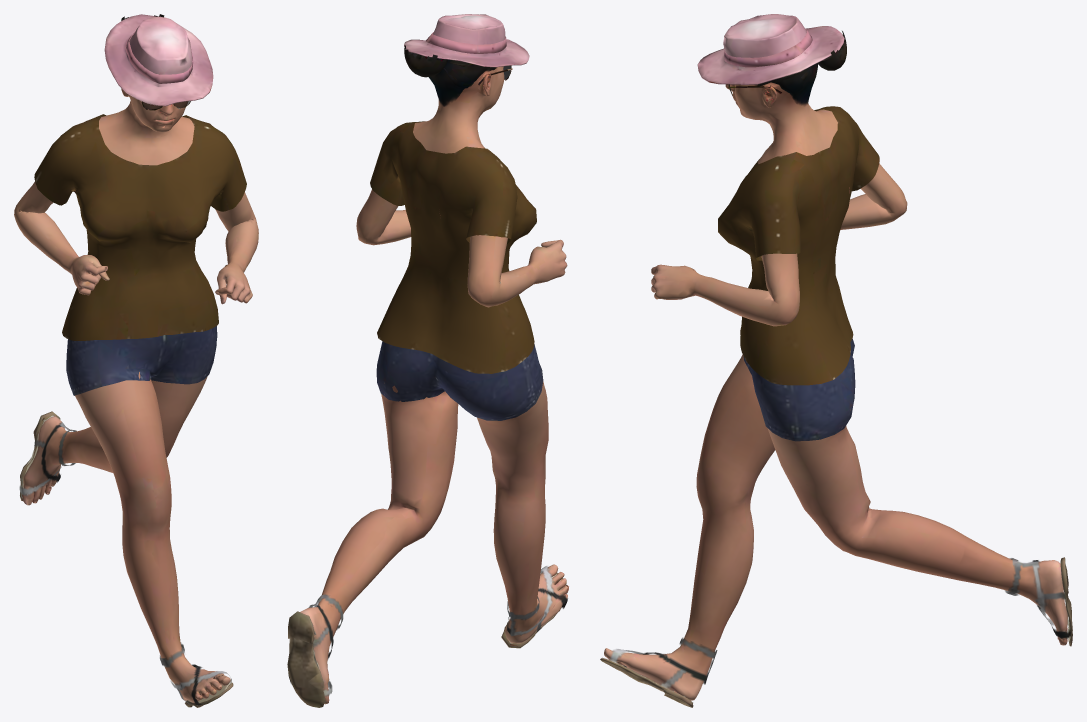
3 views of the same model, side by side, from view 1: azimuth 30°, elevation 25°; view 2: azimuth 150°, elevation 25°; view 3: azimuth 270°, elevation 25° (orthographic). The views are drawn at different scales.
Parts seen in each view (by area): view 1: p01584; view 2: p01584; view 3: p01584.
Boxes of the visible parts, box(x1,y1,x2,y2) form: p01584: box(14, 14, 258, 707); p01584: box(287, 14, 568, 707); p01584: box(600, 14, 1072, 707).
Bounding box in the file's own units: 0.491 × 1.59 × 0.9821.
1 material, 1 textured.
